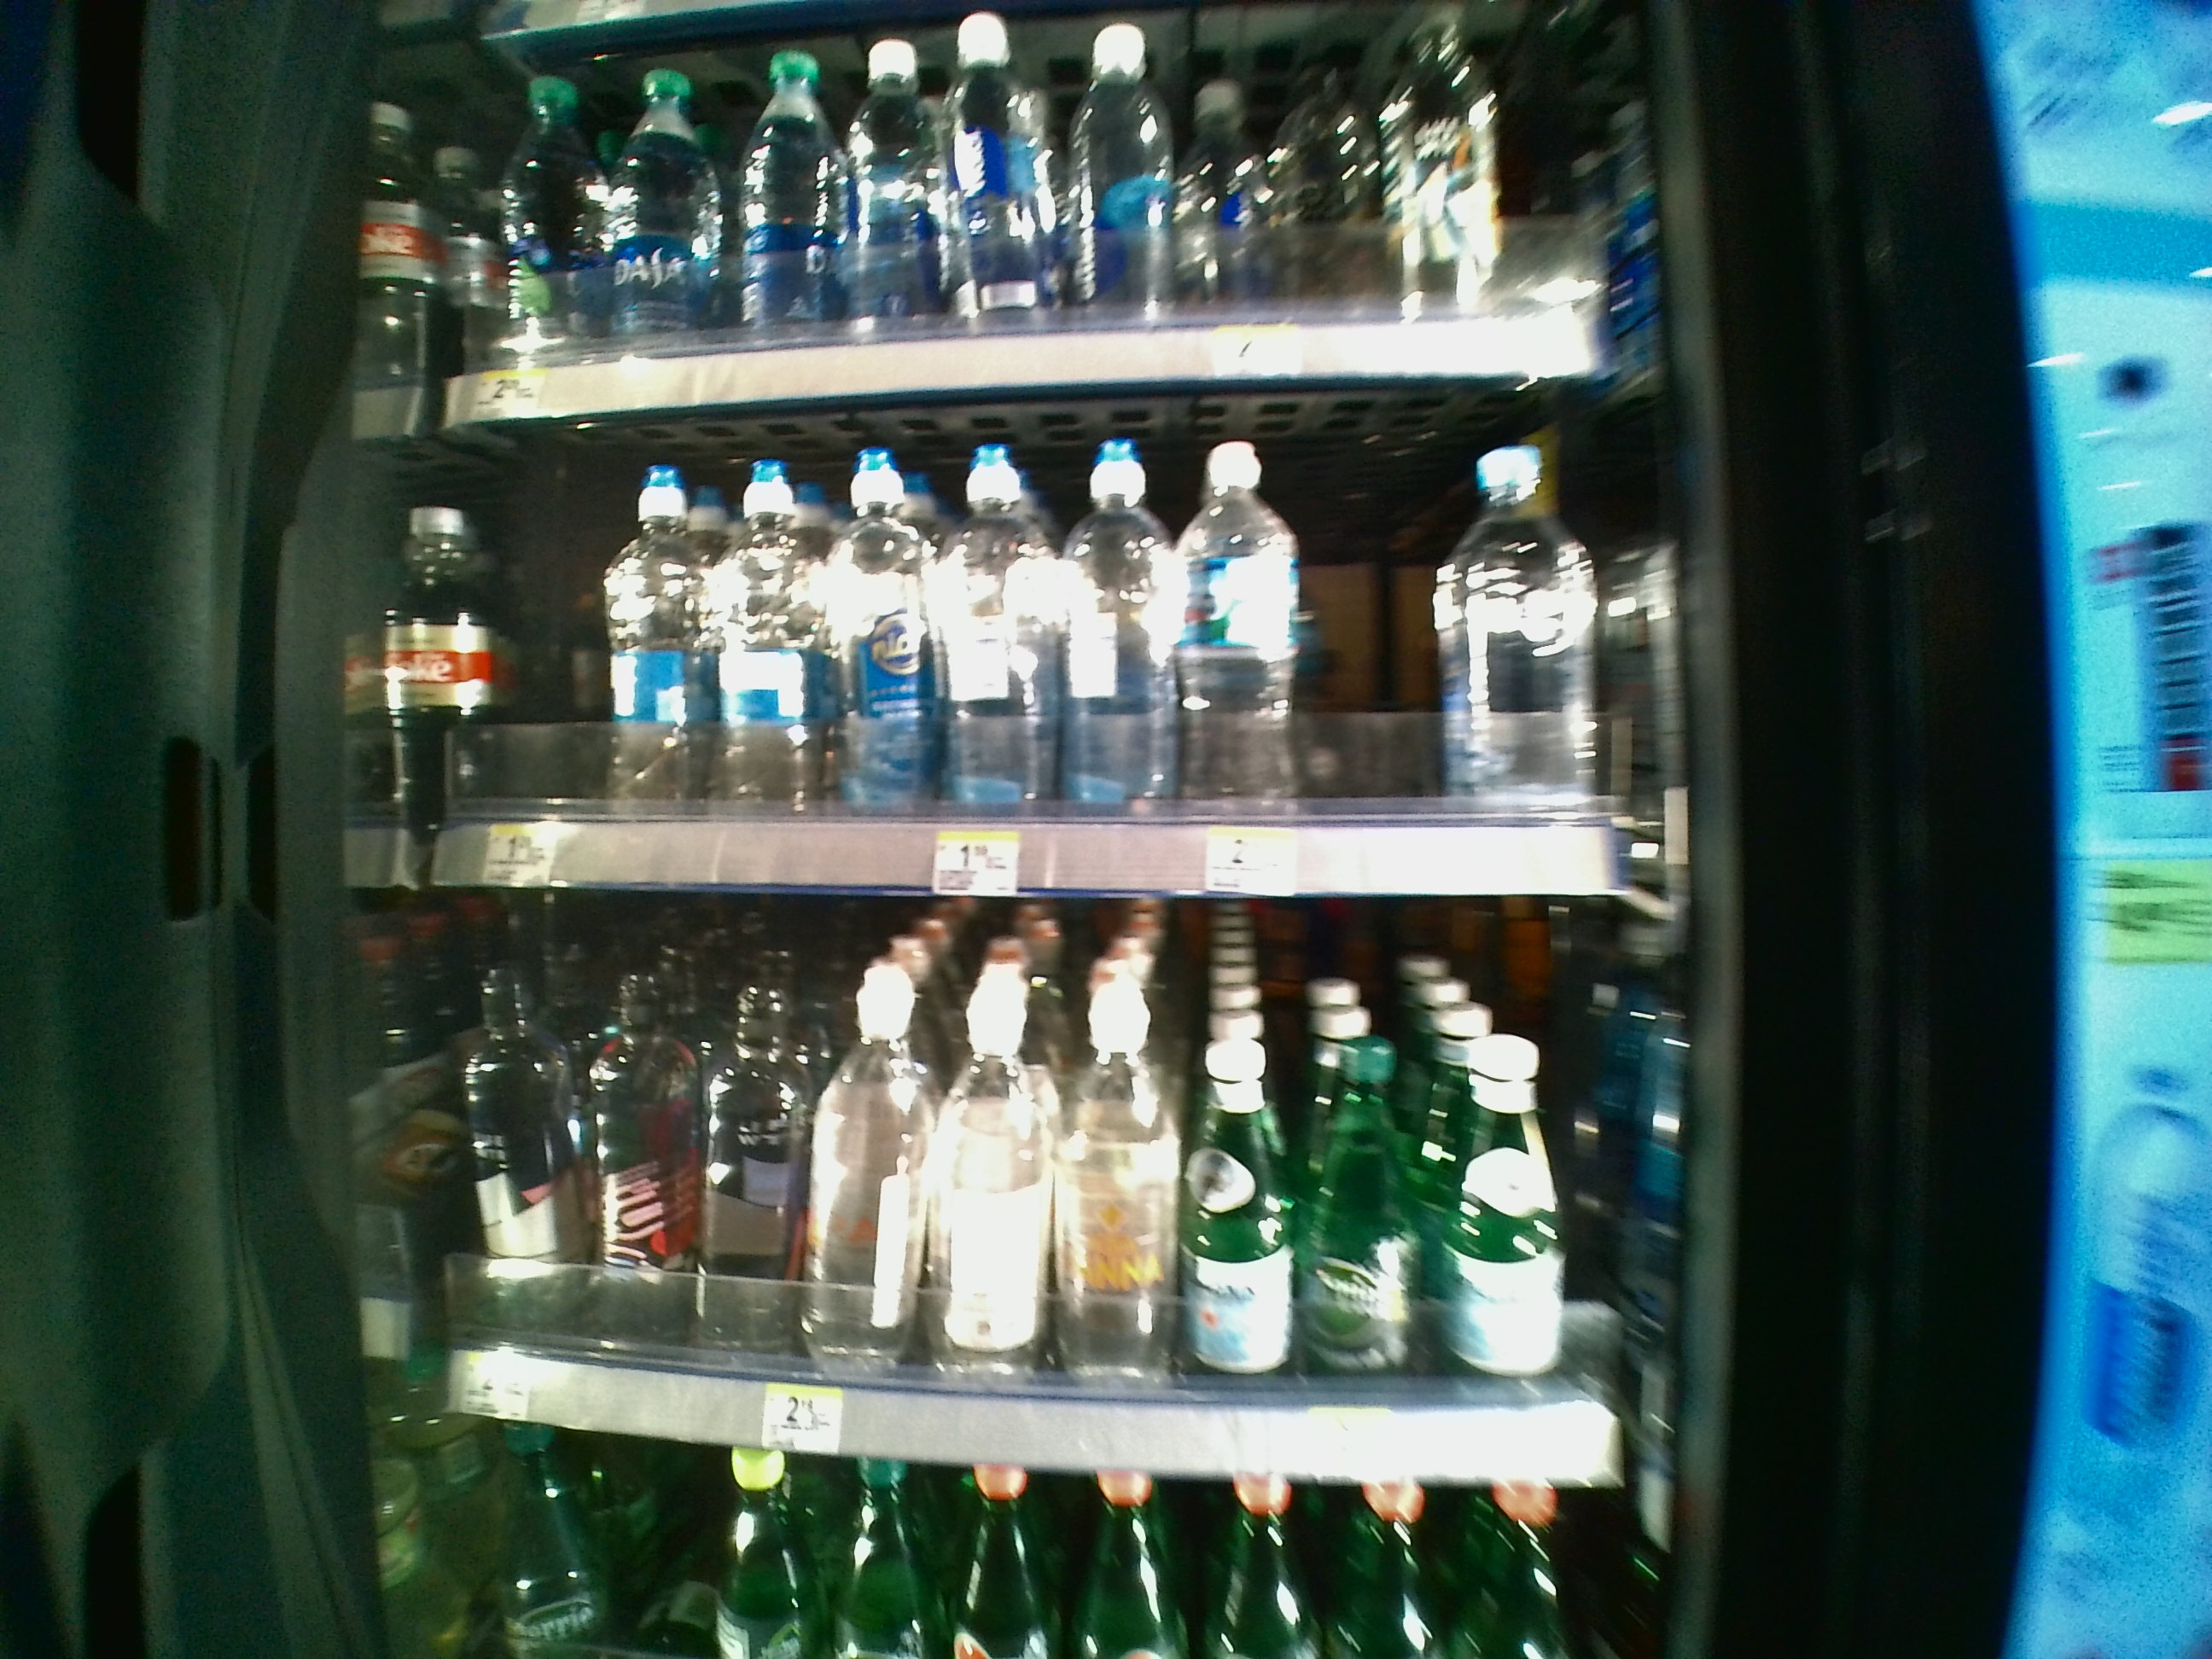shelf: (319, 899, 1667, 1490), (324, 425, 1667, 903)
